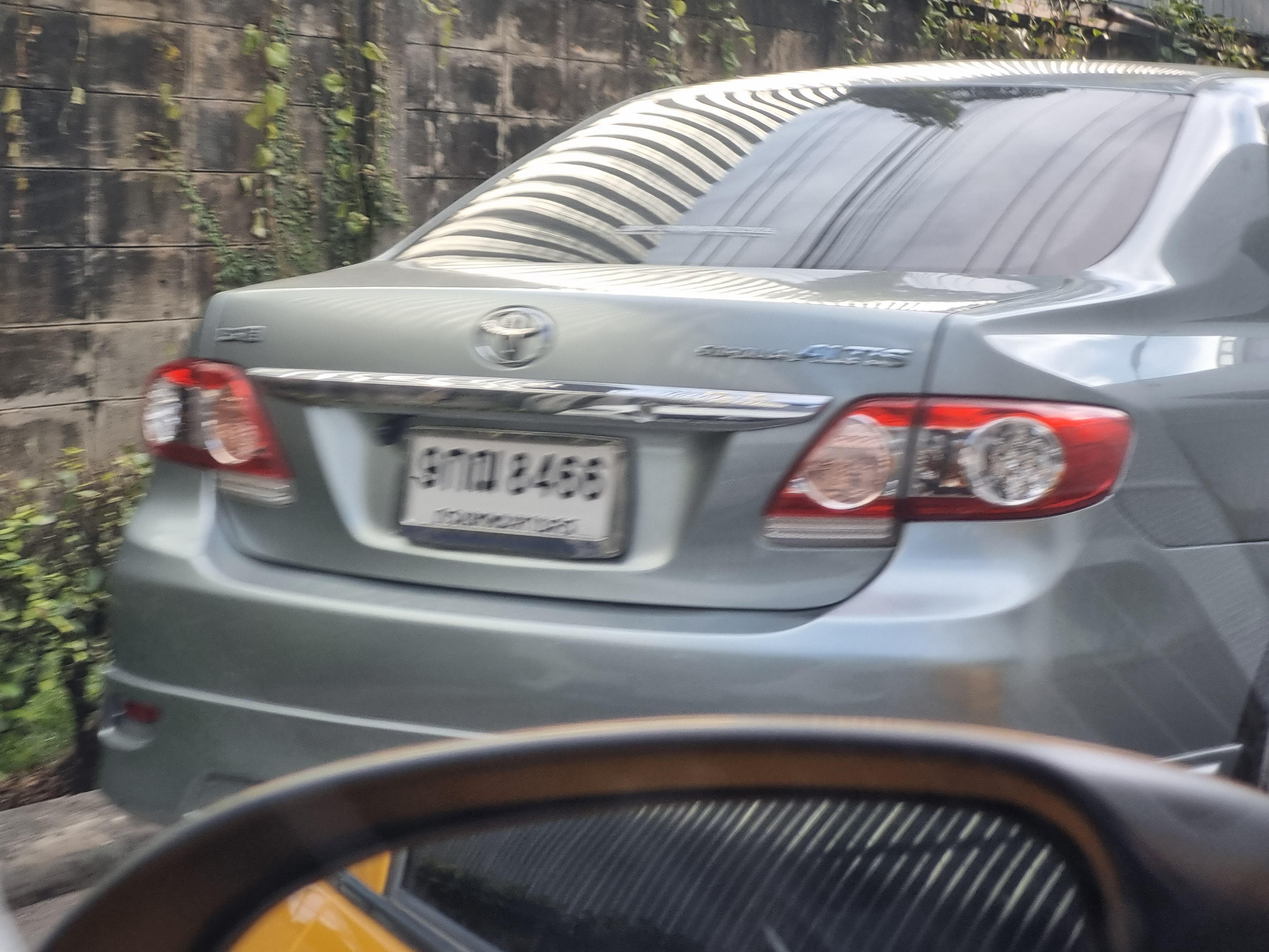license-plate: (394, 417, 635, 563)
